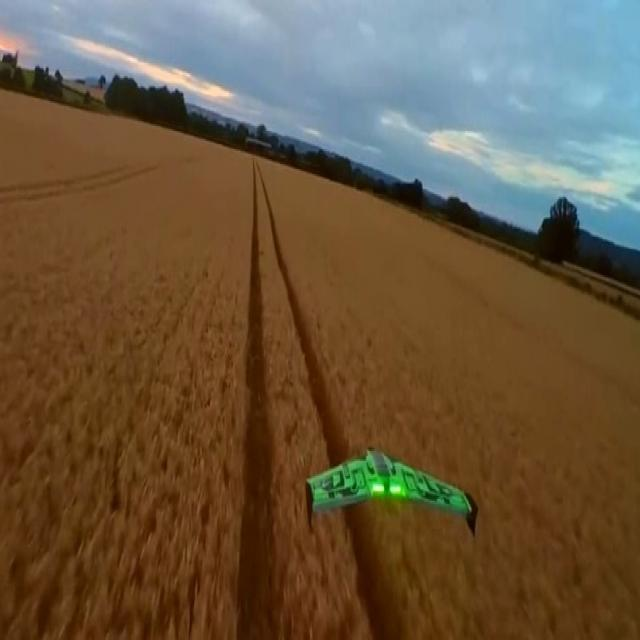UAV: (316, 401, 490, 552)
